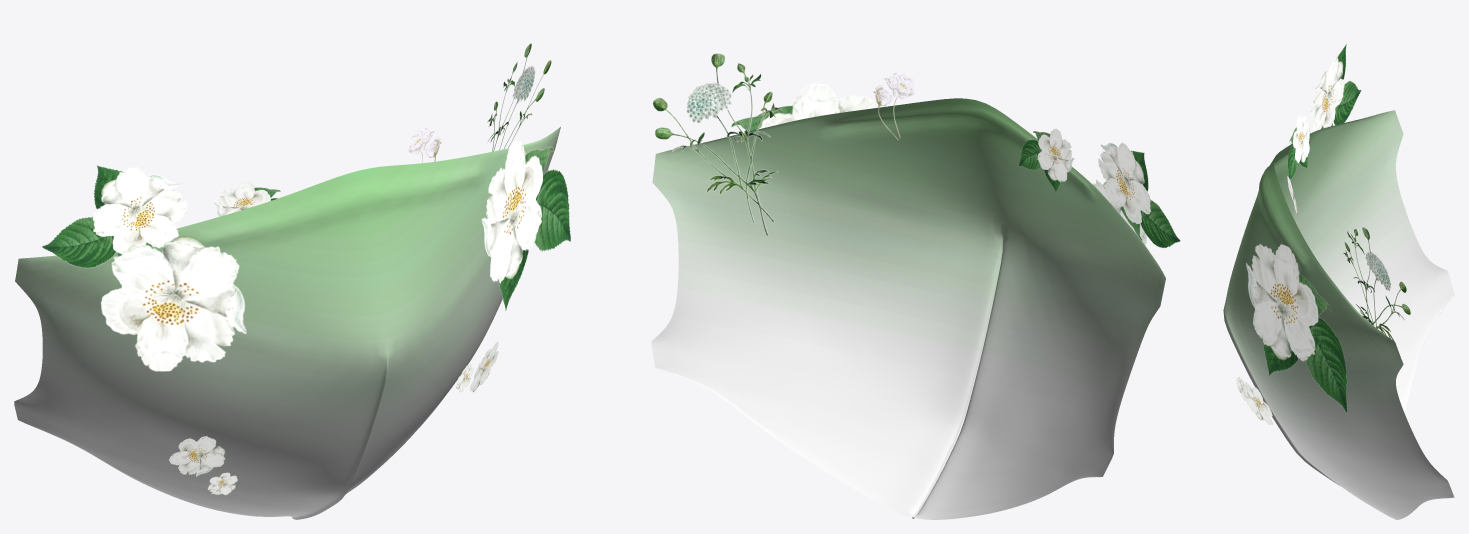
Rendered from flowermask1.gltf.
3 renders of one model, left to right at view 1: azimuth 30°, elevation 25°; view 2: azimuth 150°, elevation 25°; view 3: azimuth 270°, elevation 25°, orthographic. The views are drawn at different scales.
Visible parts, largest first — view 1: 口罩样式一, 平面, 平面.5, 平面.1, 平面.3, 平面.7, 平面.6, 平面.2; view 2: 口罩样式一, 平面.7, 平面.1, 平面.5, 平面.6, 平面.2; view 3: 口罩样式一, 平面.5, 平面.1, 平面.7, 平面.6, 平面.9.
Part boxes in pixels (left/top/right/bottom): 口罩样式一: left=14, top=127, right=560, bottom=519; 平面: left=101, top=236, right=246, bottom=371; 平面.5: left=481, top=140, right=570, bottom=311; 平面.1: left=41, top=165, right=187, bottom=268; 平面.3: left=169, top=436, right=225, bottom=476; 平面.7: left=487, top=43, right=551, bottom=151; 平面.6: left=214, top=180, right=280, bottom=216; 平面.2: left=406, top=127, right=441, bottom=163; 口罩样式一: left=651, top=98, right=1165, bottom=519; 平面.7: left=652, top=53, right=781, bottom=236; 平面.1: left=1098, top=142, right=1180, bottom=247; 平面.5: left=731, top=83, right=874, bottom=131; 平面.6: left=1018, top=128, right=1074, bottom=192; 平面.2: left=873, top=72, right=916, bottom=140; 口罩样式一: left=1223, top=110, right=1454, bottom=519; 平面.5: left=1246, top=244, right=1347, bottom=413; 平面.1: left=1310, top=43, right=1361, bottom=132; 平面.7: left=1343, top=227, right=1410, bottom=340; 平面.6: left=1288, top=115, right=1309, bottom=180; 平面.9: left=1241, top=382, right=1272, bottom=424.
Size of the model in its own units: 8.98 by 6.9 by 3.53.
5 materials, 5 textured.
